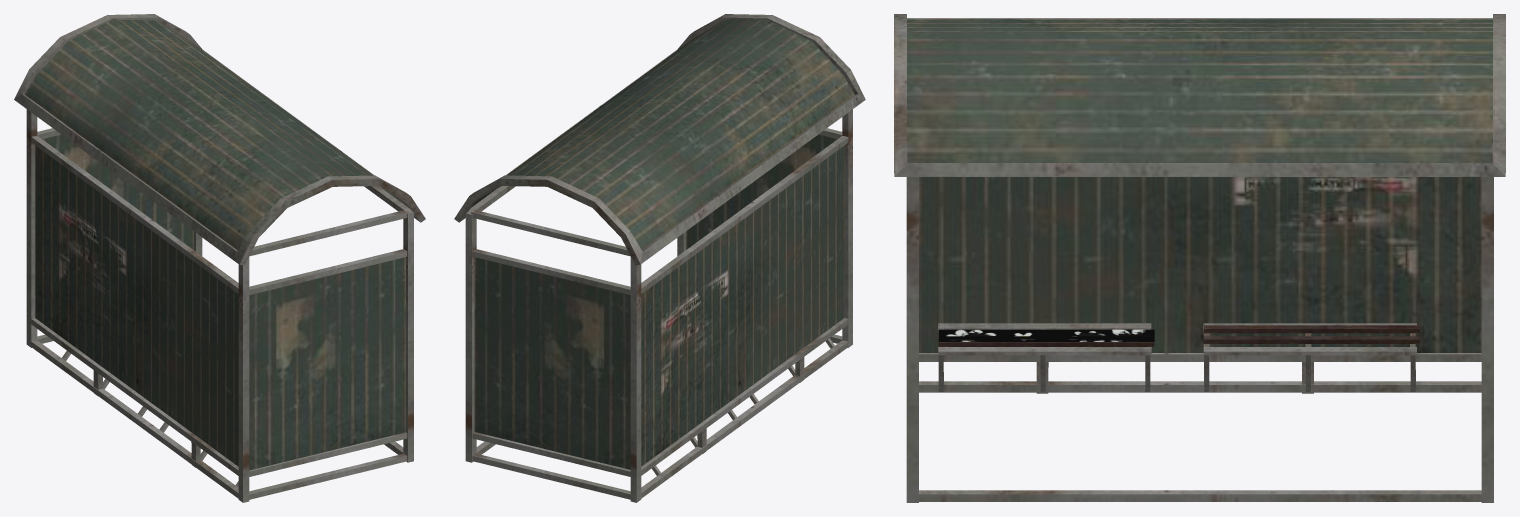
The model's file is z_ponto.glb.
The picture shows the model from 3 angles, left to right: view 1: azimuth 30°, elevation 25°; view 2: azimuth 150°, elevation 25°; view 3: azimuth 270°, elevation 25°; orthographic projection. The views are drawn at different scales.
Visible parts, largest first — view 1: model_st1:polySurface33polySurface38; view 2: model_st1:polySurface33polySurface38; view 3: model_st1:polySurface33polySurface38, pPlane1.
Part boxes in pixels (bbox=[...]): model_st1:polySurface33polySurface38: bbox=[14, 14, 425, 502]; model_st1:polySurface33polySurface38: bbox=[454, 14, 865, 502]; model_st1:polySurface33polySurface38: bbox=[894, 14, 1505, 502]; pPlane1: bbox=[938, 329, 1154, 341].
Bounding box in the file's own units: 14.61 × 22.88 × 30.54.
Materials: 2 (2 with a texture image).
